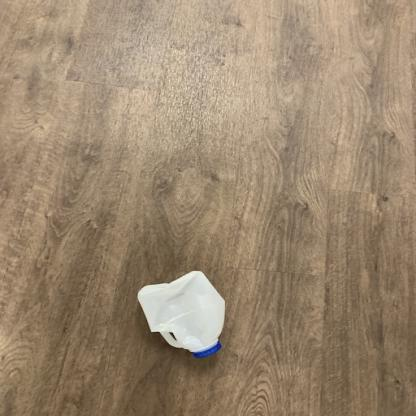trash: (138, 269, 228, 361)
